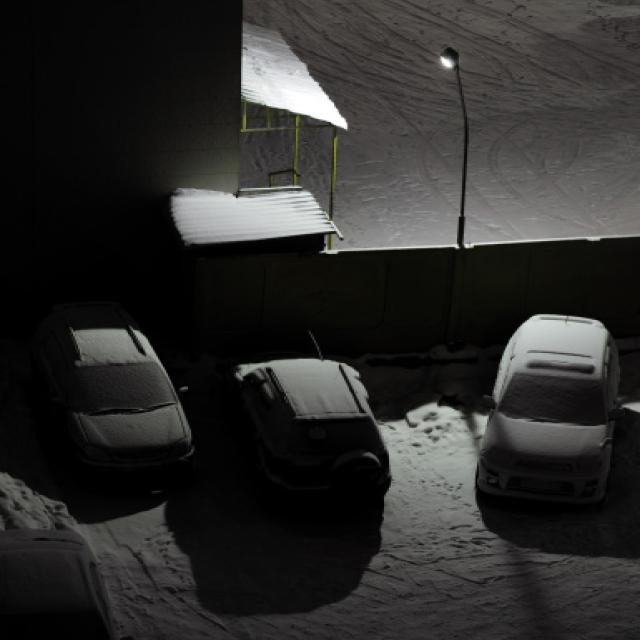Car: (219, 366, 380, 524), (484, 314, 590, 542), (42, 324, 187, 487), (13, 529, 130, 615)
